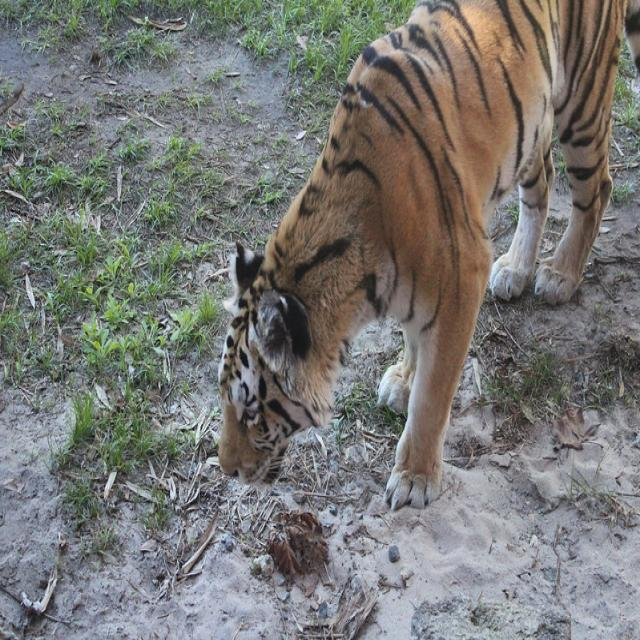Tiger: (211, 0, 639, 512)
